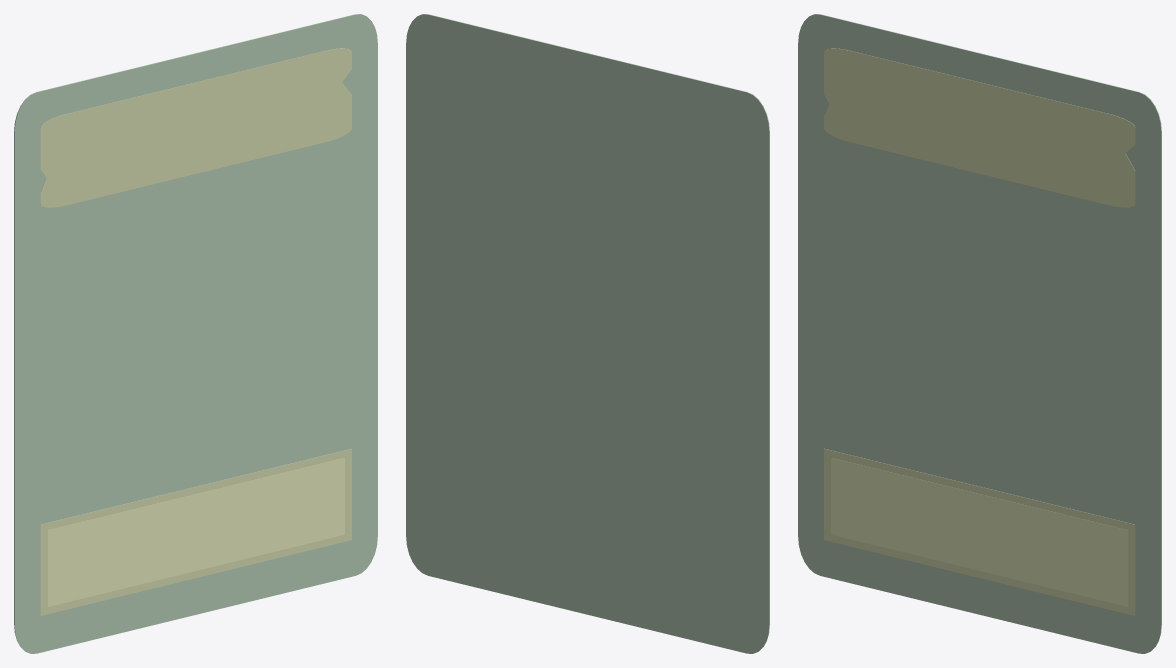
Rendered from card.fbx.
3 views of the same model, side by side, from view 1: azimuth 30°, elevation 25°; view 2: azimuth 150°, elevation 25°; view 3: azimuth 330°, elevation 25° (orthographic).
Visible parts, largest first — view 1: Cube, Cube.001, Cube.003, Cube.004; view 2: Cube; view 3: Cube, Cube.001, Cube.003, Cube.004.
Boxes of the visible parts, x1,y1,x2,y2 form: Cube: (14, 14, 377, 653); Cube.001: (40, 48, 351, 207); Cube.003: (48, 458, 344, 606); Cube.004: (40, 449, 351, 615); Cube: (406, 14, 769, 653); Cube: (798, 14, 1161, 653); Cube.001: (824, 48, 1135, 207); Cube.003: (831, 458, 1127, 606); Cube.004: (824, 449, 1135, 615).
Size of the model in its own units: 235 by 347 by 0.8851.
